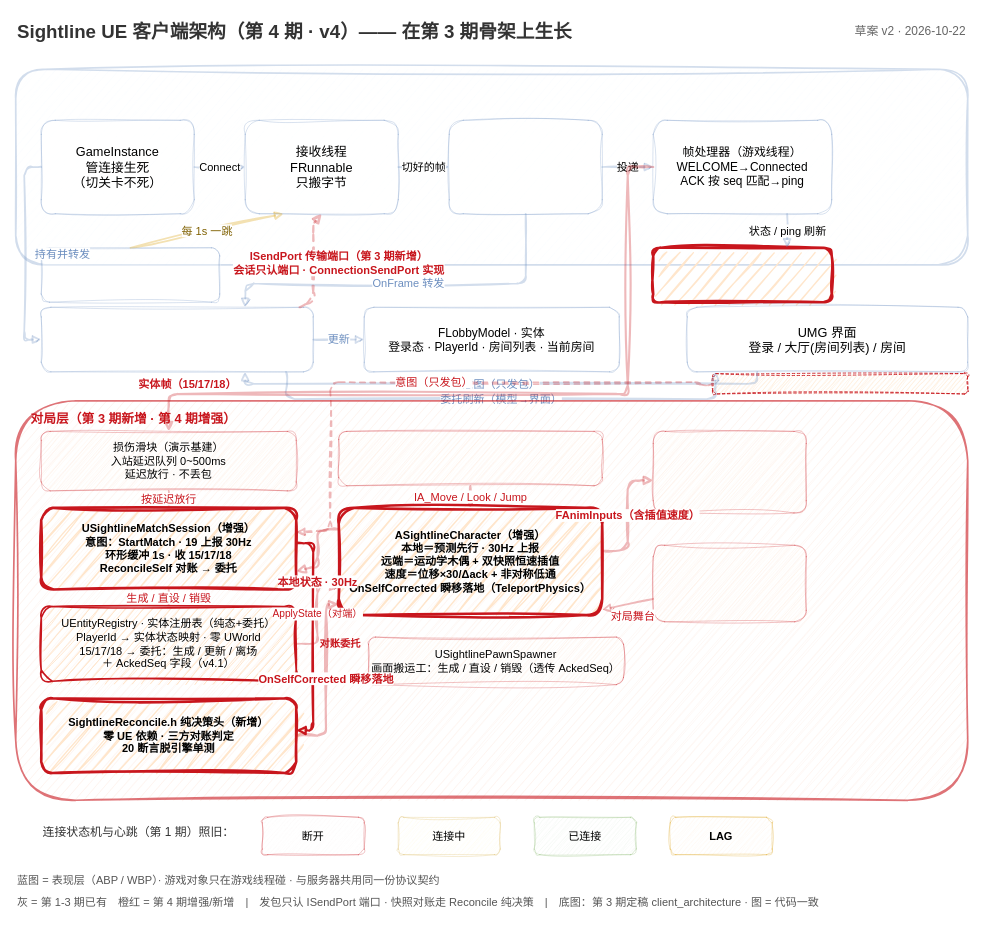
Some shapes in this 999 by 927 pixel diagram are drawn without their labels. Each missing label, with the centre of its shape:
ABP_Mannequin（表现层） 全项目唯一动画类 Speed 轴吃平滑插值速度: (729,472)
AsyncTask 唯一跨线程门: (525,166)
Enhanced Input IMC_Default · IA_Move / IA_Look / IA_Jump: (470,458)
GameMode_Sightline + L_Arena 关卡 4 出生点: (729,583)
HUD 状态 · ping · seq ＋和解：误差/次数/重放: (742,274)
ULobbySession · 会话层 意图接口：Login/建房/进房/离开 收帧解析 → 更新模型 → 广播委托: (176,339)
心跳计时器 每 1s：seq++ · 组帧发送: (130,274)
＋房主：开始对局按钮（意图 14 · 只发包）: (840,383)
